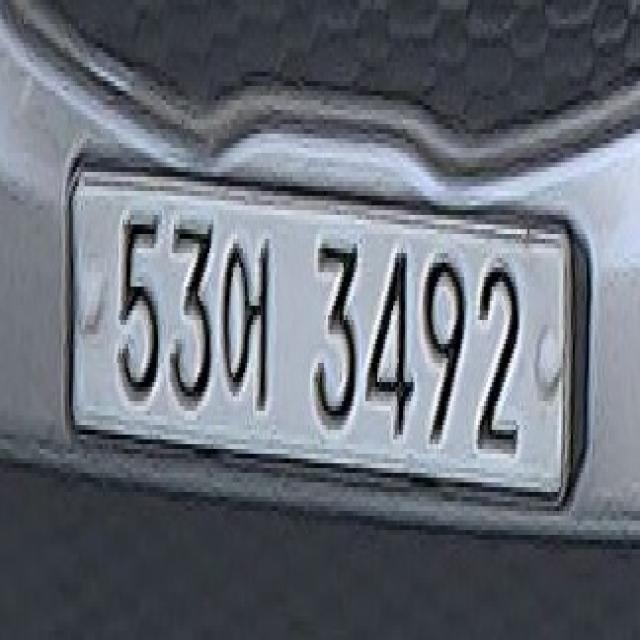2: (466, 263, 541, 492)
3: (316, 205, 364, 449), (170, 186, 217, 430)
4: (362, 200, 424, 472)
5: (113, 191, 164, 420)
9: (421, 220, 472, 487)
eo: (220, 196, 282, 434)
license_plate: (44, 158, 588, 526)
